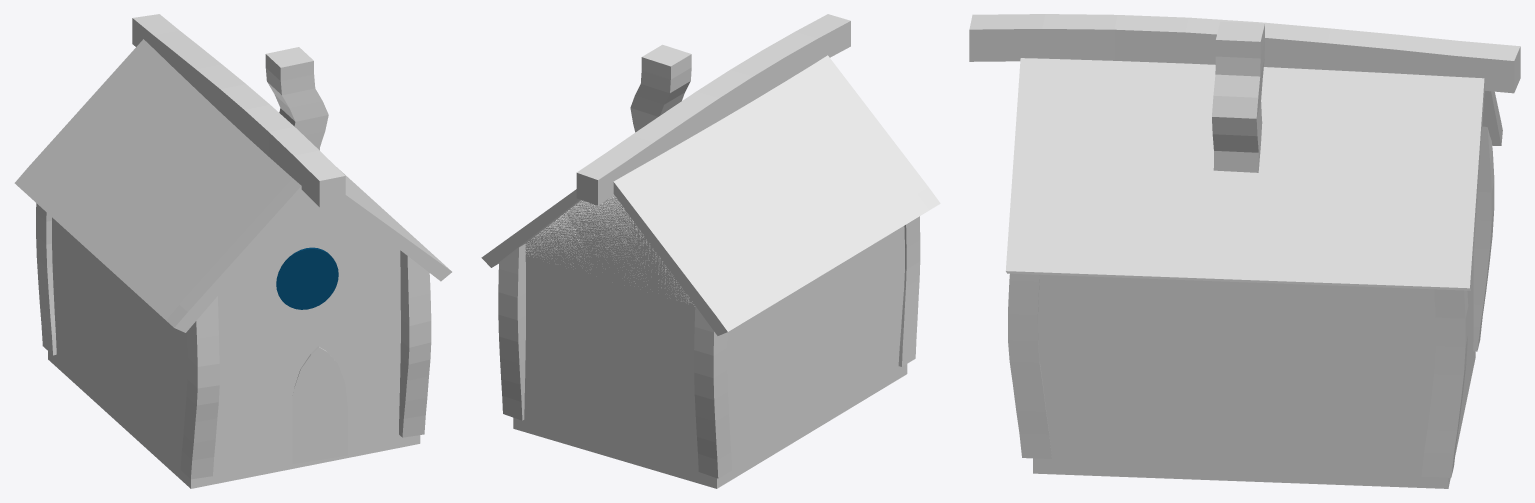
The model's file is HouseModelWSP.fbx.
The picture shows the model from 3 angles, left to right: view 1: azimuth 30°, elevation 25°; view 2: azimuth 150°, elevation 25°; view 3: azimuth 270°, elevation 25°; orthographic projection. The views are drawn at different scales.
Parts seen in each view (by area): view 1: Cube.027, Cube.031, Cube.028, Plane.016, Cube.030, Cube.012, Cube, Cylinder.003, Cube.026; view 2: Cube.027, Cube.031, Cube.028, Cube.026, Cube.029, Cube, Cube.030; view 3: Cube.031, Cube.027, Cube.028, Cube, Cube.029, Cube.012, Cube.026.
Boxes of the visible parts, x1,y1,x2,y2 form: Cube.027: (48,193,420,488); Cube.031: (14,39,451,332); Cube.028: (132,14,345,207); Plane.016: (292,346,347,463); Cube.030: (180,296,219,479); Cube.012: (399,250,431,437); Cube: (265,47,328,150); Cylinder.003: (276,247,338,309); Cube.026: (36,203,56,355); Cube.027: (513,195,907,488); Cube.031: (481,55,940,335); Cube.028: (576,14,850,205); Cube.026: (694,306,731,478); Cube.029: (498,243,525,420); Cube: (630,44,691,132); Cube.030: (898,216,920,366); Cube.031: (1005,58,1502,290); Cube.027: (1033,258,1475,488); Cube.028: (969,14,1520,93); Cube: (1212,21,1264,172); Cube.029: (1421,289,1468,477); Cube.012: (1008,273,1051,458); Cube.026: (1473,126,1494,351).
Size of the model in its own units: 405 by 443 by 534.
